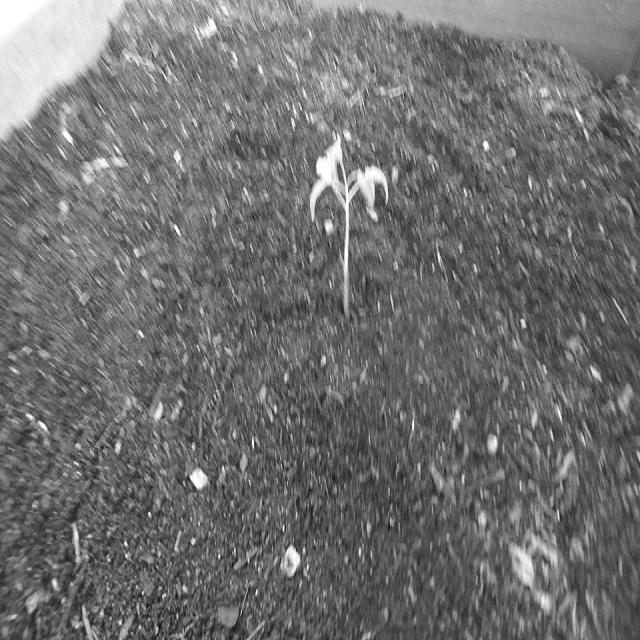Healthy: (306, 130, 395, 328)
